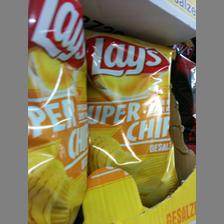Chips: (84, 27, 182, 205), (26, 0, 86, 222)
